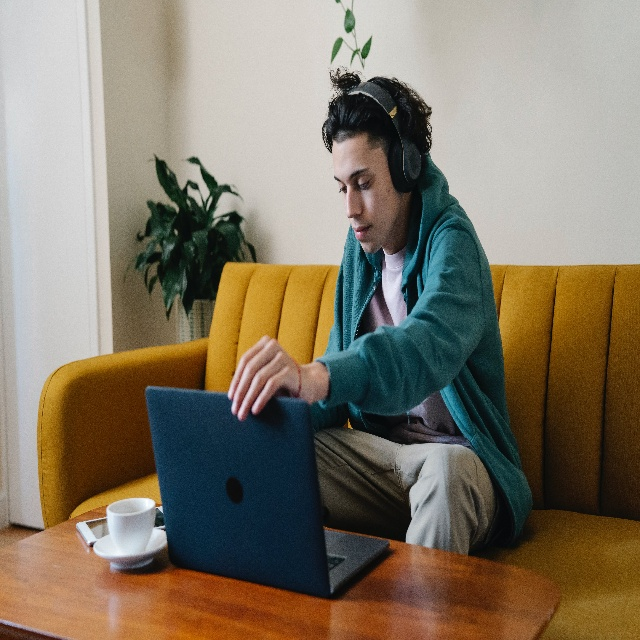Sin_guantes: (227, 335, 294, 421)
